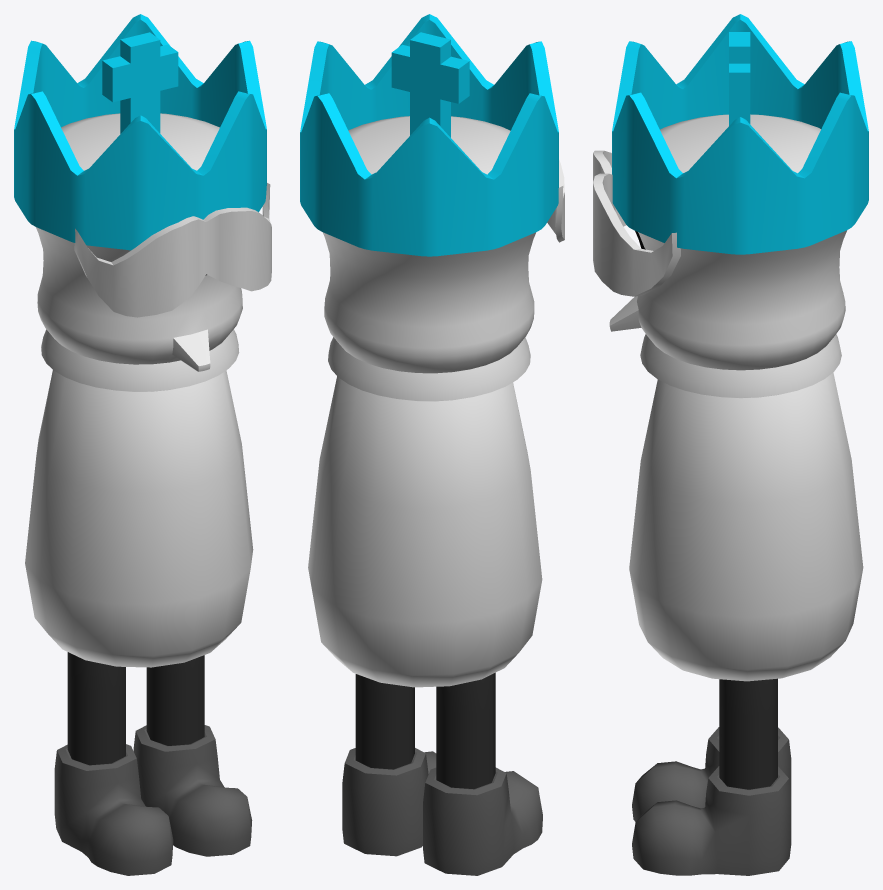
Rendered from Rey.fbx.
3 renders of one model, left to right at view 1: azimuth 30°, elevation 25°; view 2: azimuth 150°, elevation 25°; view 3: azimuth 270°, elevation 25°, orthographic. The views are drawn at different scales.
Visible parts, largest first — view 1: Rey; view 2: Rey; view 3: Rey.
Boxes of the visible parts, <box> form: Rey: <box>14,14,271,875</box>; Rey: <box>300,14,564,875</box>; Rey: <box>593,14,868,875</box>.
Size of the model in its own units: 1.04 by 3.58 by 1.12.
